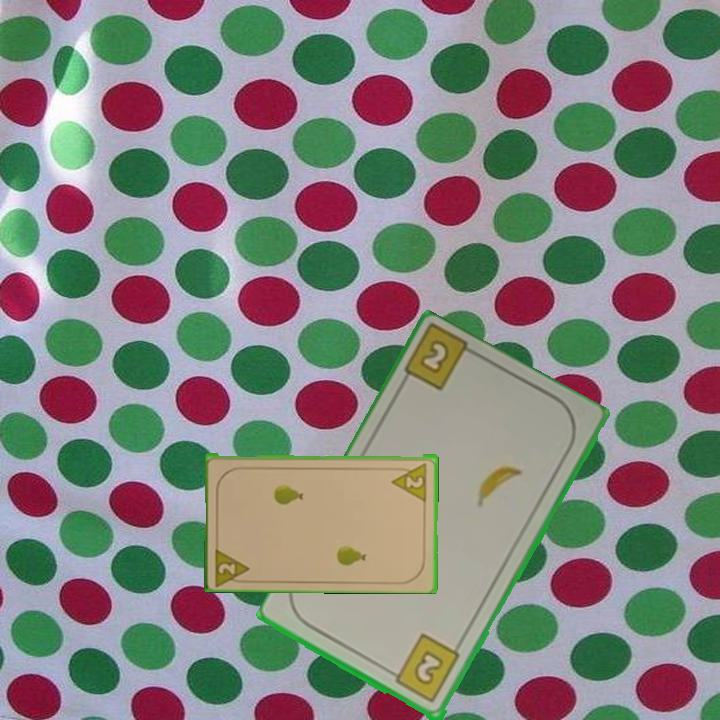2b: (385, 631, 463, 706), (415, 336, 453, 378)
2p: (212, 542, 253, 587), (389, 459, 430, 502)
